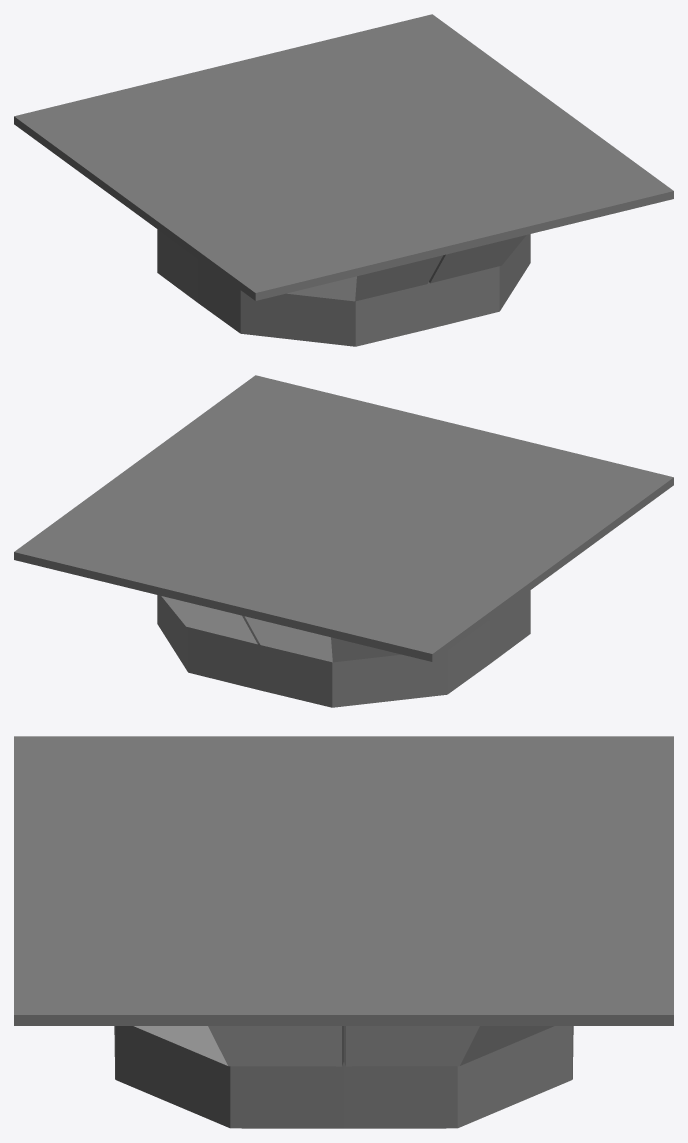
The model's file is ATCRoom.fbx.
3 views of the same model, one above another, from view 1: azimuth 30°, elevation 25°; view 2: azimuth 150°, elevation 25°; view 3: azimuth 270°, elevation 25° (orthographic). The views are drawn at different scales.
Visible parts, largest first — view 1: Cube.002, Cube.004; view 2: Cube.002, Cube.004; view 3: Cube.002, Cube.004.
Part boxes in pixels (x1,y1,x2,y2): Cube.002: (14, 14, 673, 346); Cube.004: (287, 235, 526, 301); Cube.002: (14, 375, 673, 707); Cube.004: (161, 596, 400, 662); Cube.002: (14, 736, 673, 1128); Cube.004: (134, 1026, 553, 1066).
Bounding box in the file's own units: 1200 × 313 × 1200.
2 materials, 1 textured.
